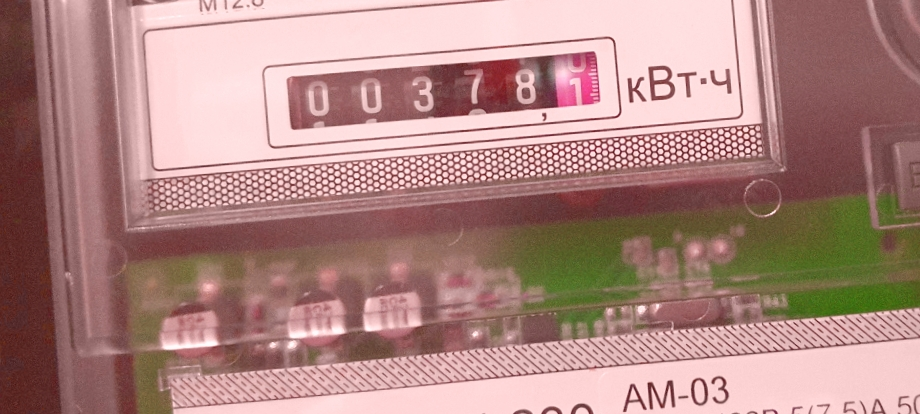0: (304, 75, 333, 117), (357, 74, 384, 114), (565, 50, 588, 73)
1: (565, 73, 586, 106)
3: (408, 72, 436, 114)
7: (461, 65, 486, 105)
8: (512, 65, 538, 106)
screen: (265, 31, 620, 140)
